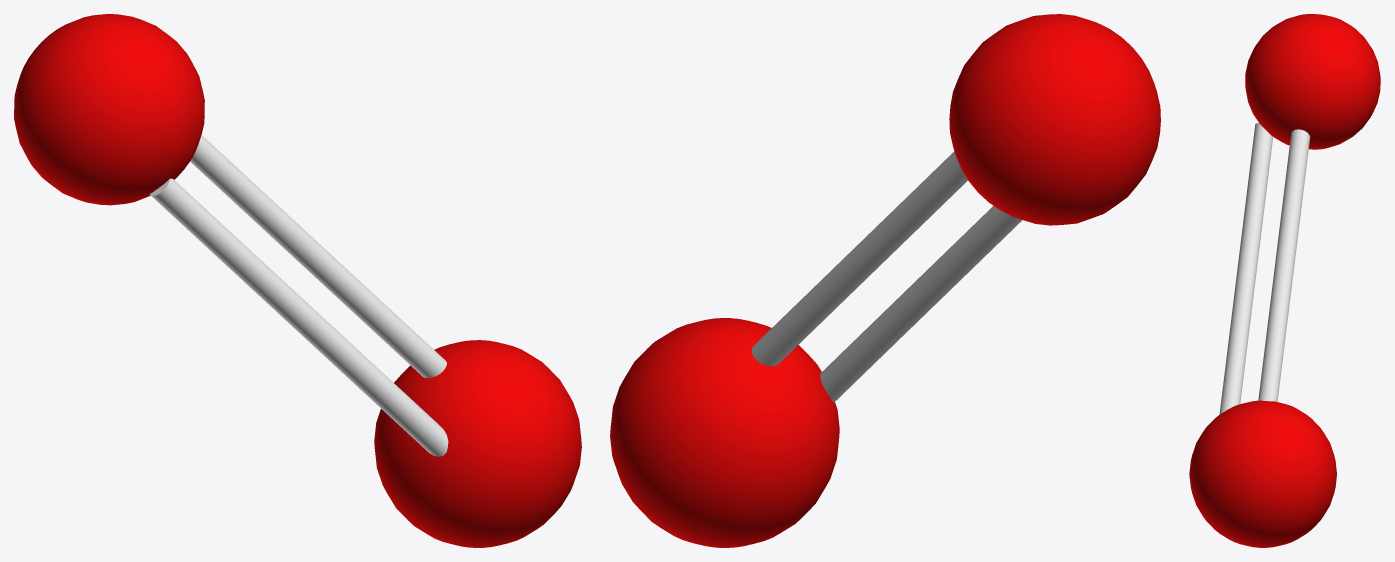
3 views of the same model, side by side, from view 1: azimuth 30°, elevation 25°; view 2: azimuth 150°, elevation 25°; view 3: azimuth 270°, elevation 25° (orthographic). The views are drawn at different scales.
Parts seen in each view (by area): view 1: Sphere019, Sphere020, Cylinder030, Cylinder027; view 2: Sphere019, Sphere020, Cylinder027, Cylinder030; view 3: Sphere019, Sphere020, Cylinder030, Cylinder027.
Boxes of the visible parts, <box> form: Sphere019: <box>374,340,581,547</box>; Sphere020: <box>14,14,204,205</box>; Cylinder030: <box>149,178,448,456</box>; Cylinder027: <box>190,135,446,377</box>; Sphere019: <box>610,318,839,547</box>; Sphere020: <box>949,14,1160,225</box>; Cylinder027: <box>752,151,967,366</box>; Cylinder030: <box>820,206,1022,402</box>; Sphere019: <box>1189,400,1336,547</box>; Sphere020: <box>1245,14,1380,149</box>; Cylinder030: <box>1219,123,1272,414</box>; Cylinder027: <box>1258,129,1310,401</box>.
Size of the model in its own units: 54.9 by 59.17 by 25.3.
